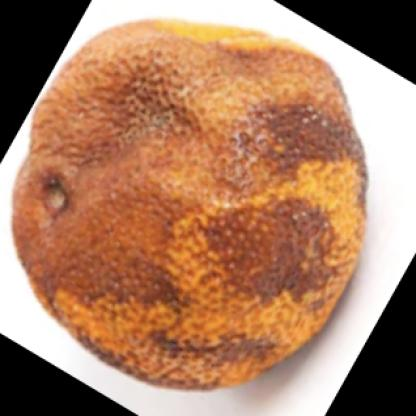rotten: (11, 18, 365, 388)
